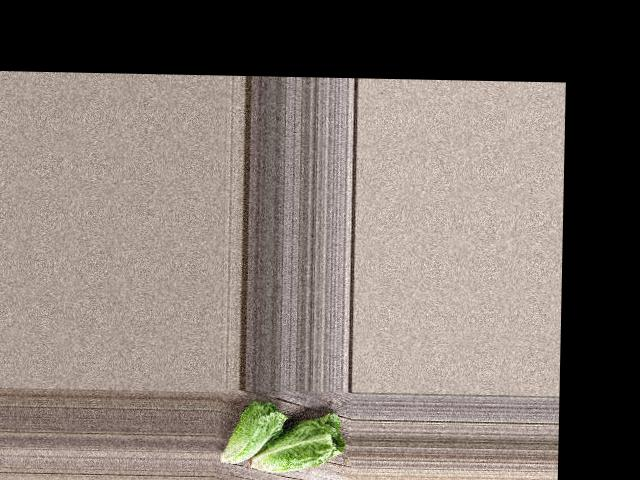lettuce: (215, 394, 289, 467)
